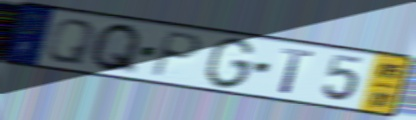5: (318, 53, 368, 103)
G: (202, 36, 257, 91)
P: (147, 29, 205, 79)
Q: (87, 21, 145, 77), (43, 17, 99, 67)
T: (278, 45, 316, 96)
